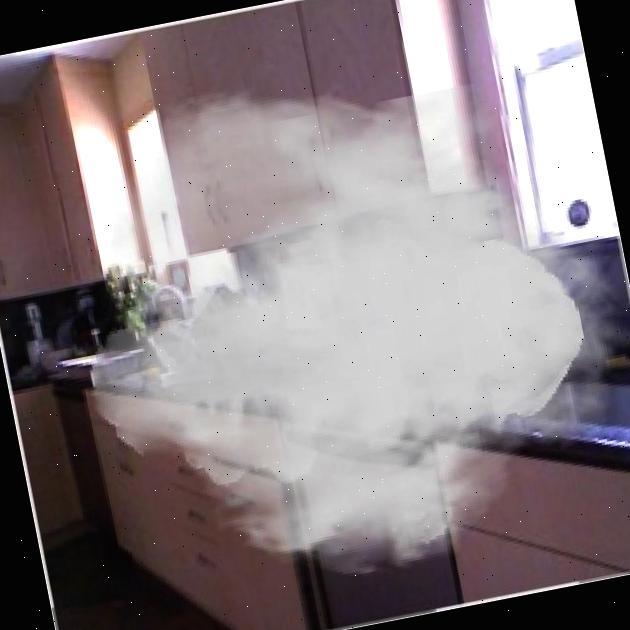smoke: (39, 16, 630, 627)
